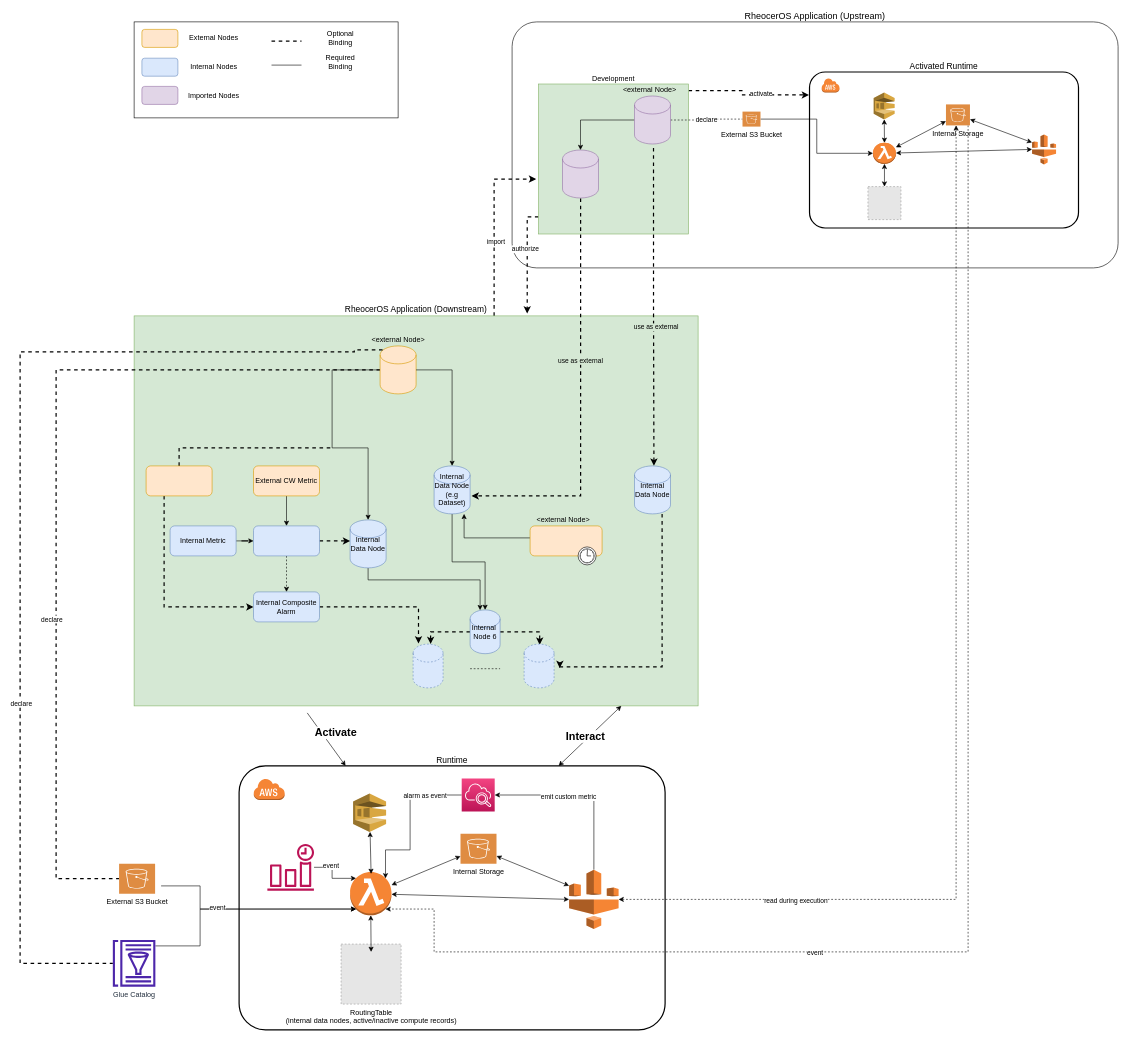
Image size: 1129x1040. Some labels were removed from this diagram. Grey dashed boxes stand in for pictures. The shapes that lost their labels are listed below. From the top down, each one's centre as x and y in pixels, then its label:
(580,173): Internal Data Node (Dataset)
(398,369): S3 or Glue Table
(179,480): External CW Alarm
(286,540): Internal Alarm
(566,540): Timer
(369,812): SQS
(478,795): Diagnostics
(290,867): Timer 1
(593,899): Batch Compute (Glue, Athena, EMR)
